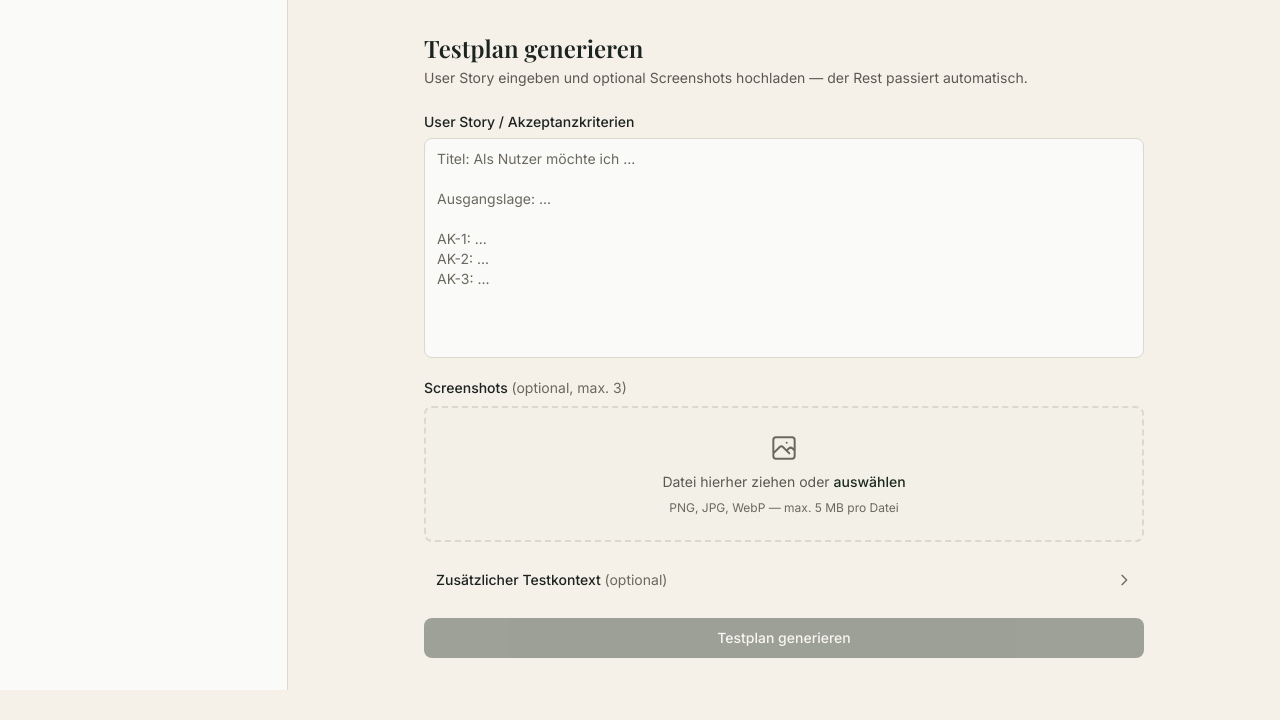
Scenario: TestCaseGeneratorPage — Submit Error › bleibt auf Input-Screen bei Service-Fehler
Type "Story Text" into the text box labelled "User Story / Akzeptanzkriterien" at (784, 248), box [424,138,1144,358]
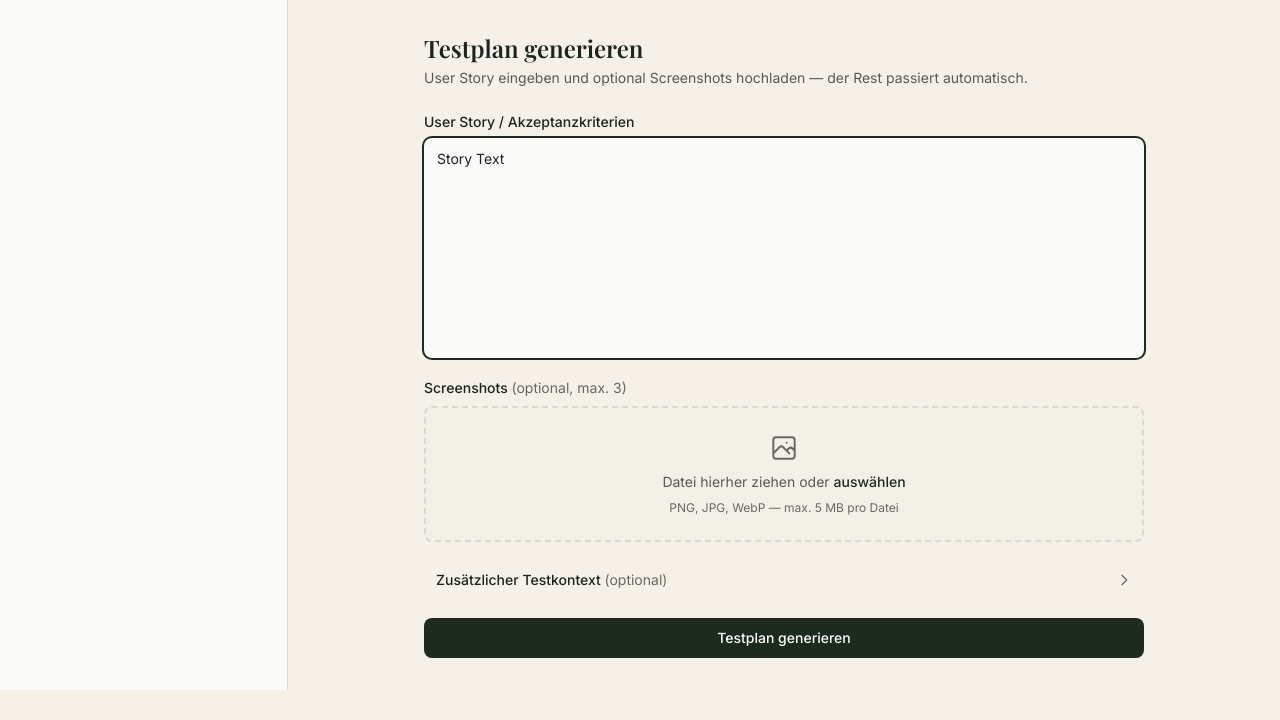
Click the button "Testplan generieren" at (784, 638), box [424,618,1144,658]
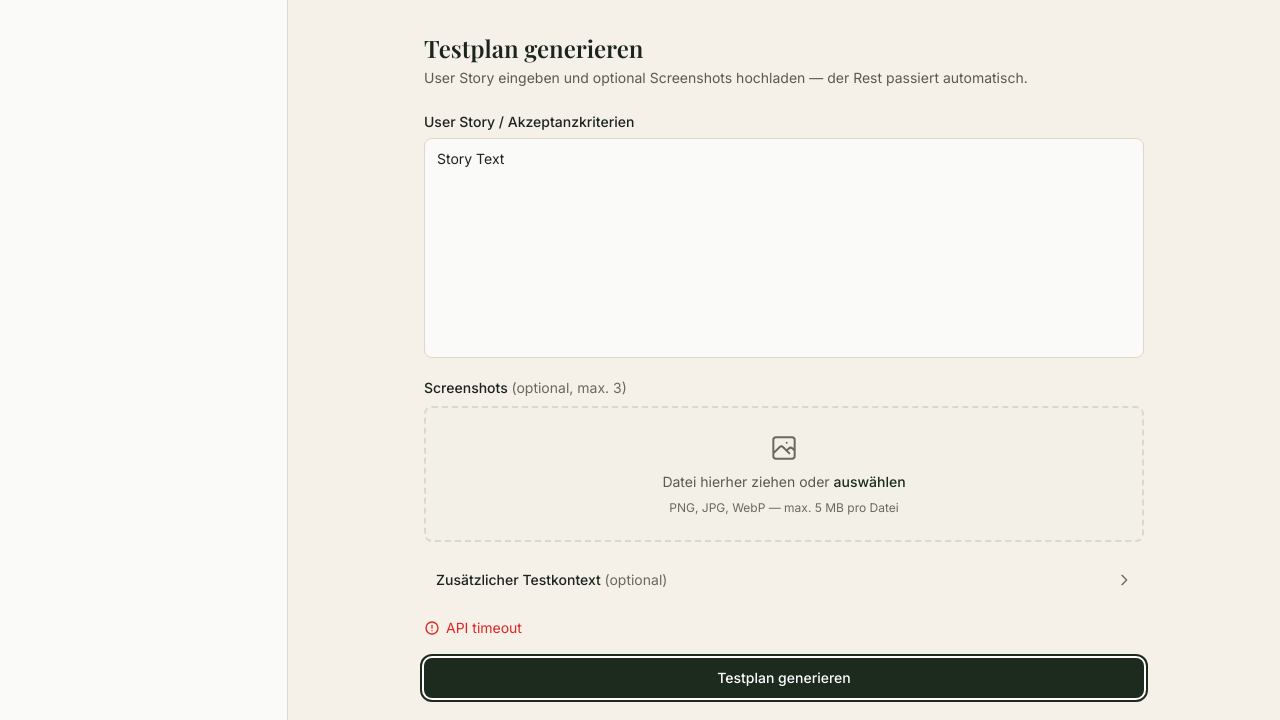
Expected: the button "Testplan generieren" is shown, [424,658,1144,698]
Expected: the message "API timeout" is shown, [424,619,522,636]
Expected: the message reads "API timeout", [446,619,522,636]
